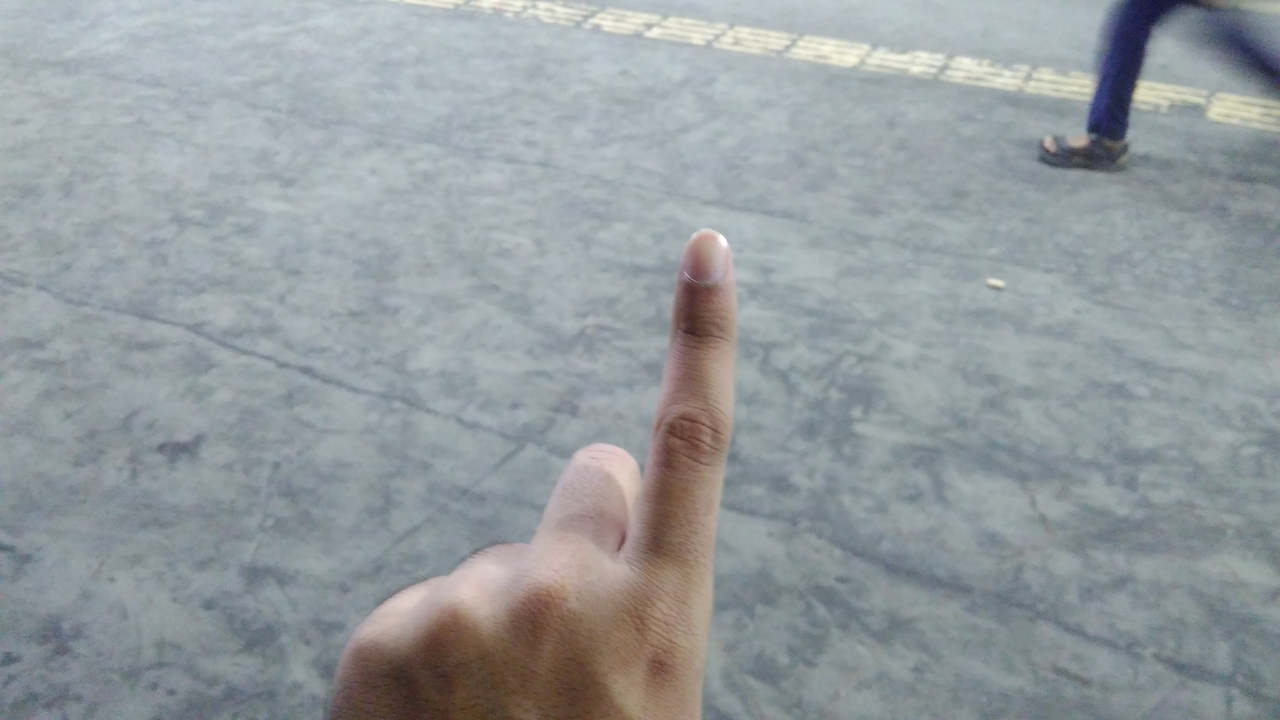fingertip: (676, 222, 740, 288)
